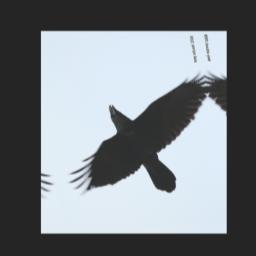Crow: (52, 72, 222, 203)
